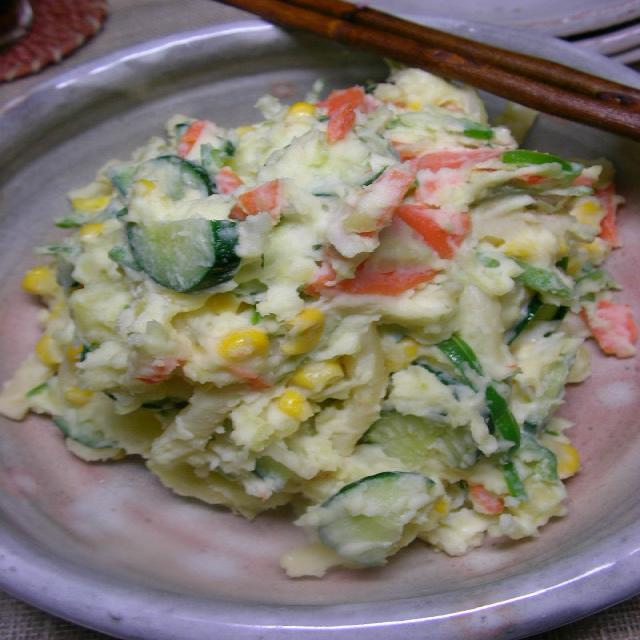蔬菜料理: (0, 52, 635, 582)
